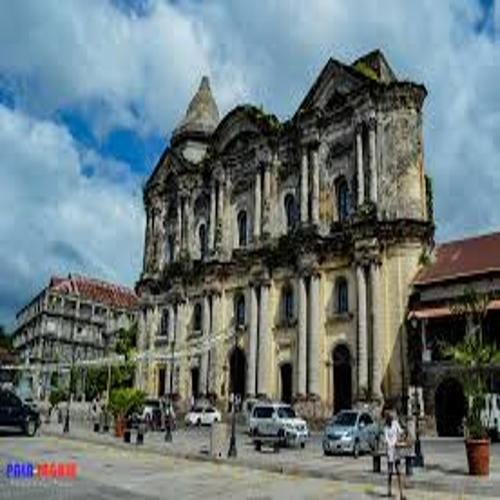Taal Basilica Church: (127, 42, 444, 445)
